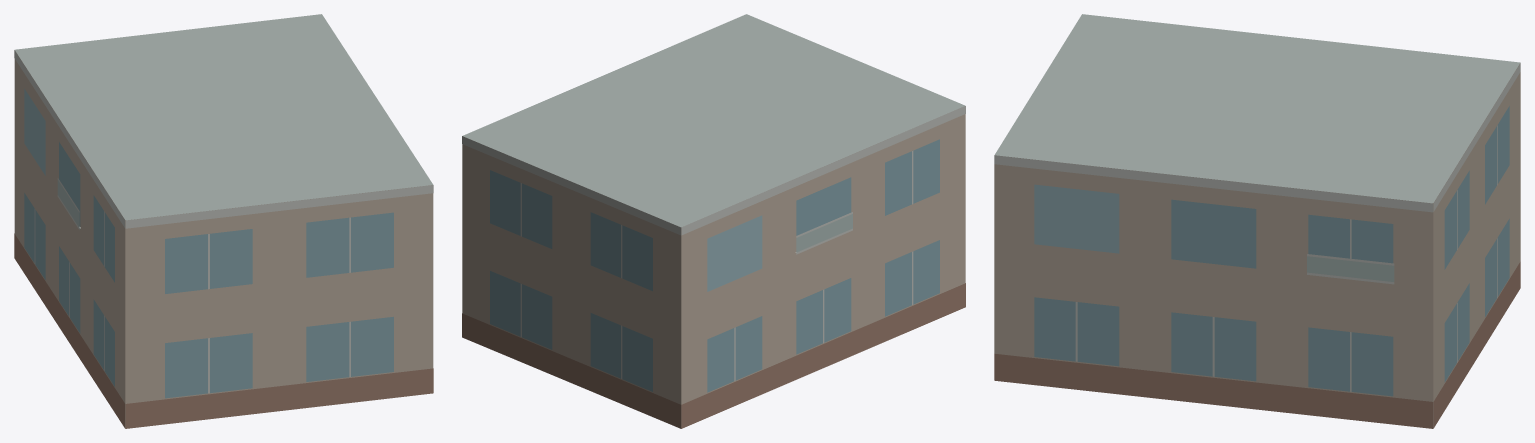
File: survey-upis-32828123.glb
3 renders of one model, left to right at view 1: azimuth 30°, elevation 25°; view 2: azimuth 150°, elevation 25°; view 3: azimuth 270°, elevation 25°, orthographic. The views are drawn at different scales.
Parts seen in each view (by area): view 1: survey-upis-32828123.tmp; view 2: survey-upis-32828123.tmp; view 3: survey-upis-32828123.tmp.
Part boxes in pixels (x1,y1,x2,y2): survey-upis-32828123.tmp: (14,14,433,428); survey-upis-32828123.tmp: (462,14,965,428); survey-upis-32828123.tmp: (994,14,1520,428).
Size of the model in its own units: 11 by 6.1 by 12.92.
